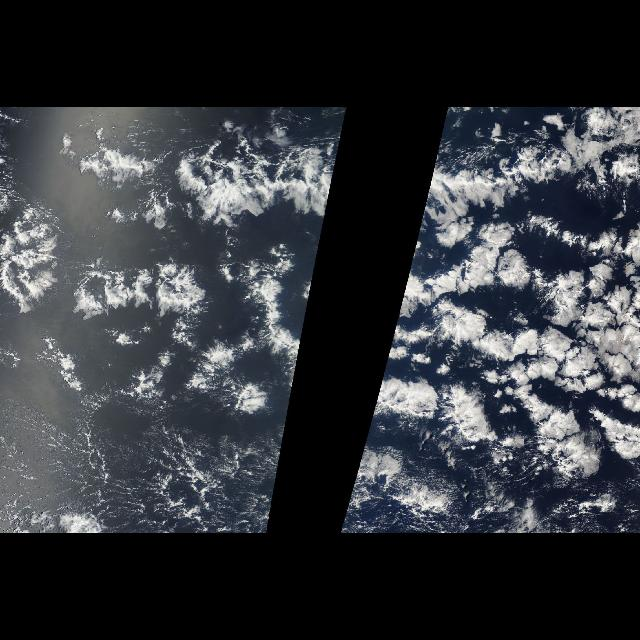Flower: (1, 111, 348, 503), (346, 111, 640, 503)
Gravel: (13, 391, 233, 525)
